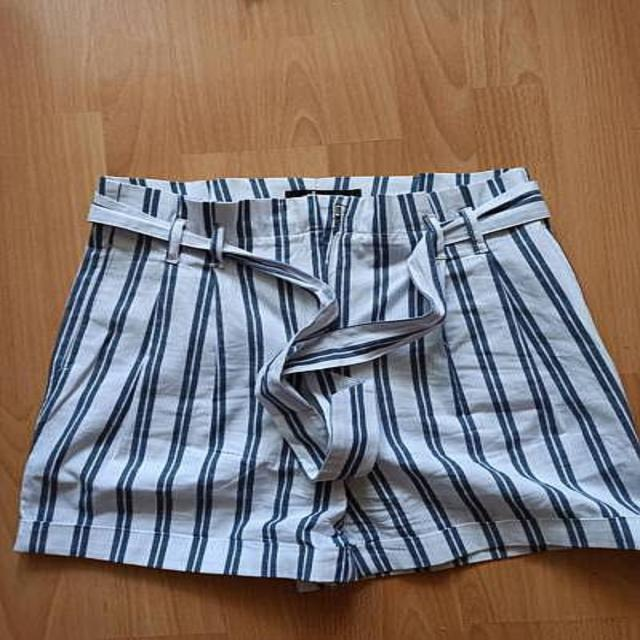SHORT: (14, 165, 640, 593)
